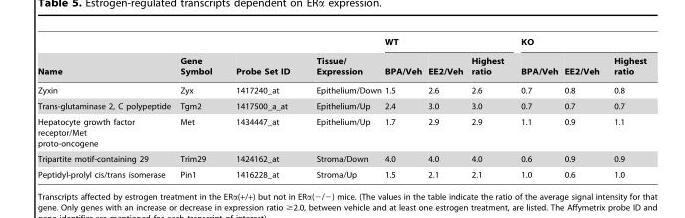table: (36, 37, 645, 178)
table column: (36, 37, 174, 178), (302, 37, 382, 178), (223, 37, 302, 178), (174, 37, 223, 178), (511, 37, 560, 178), (560, 37, 606, 178), (466, 37, 511, 178), (382, 37, 424, 178), (424, 37, 466, 178), (606, 37, 645, 178)
table column header: (36, 37, 645, 80)
table row: (36, 113, 645, 150), (36, 51, 645, 80), (36, 80, 645, 98), (36, 150, 645, 166), (36, 98, 645, 113), (36, 37, 645, 51), (36, 166, 645, 178)
table spanning cell: (36, 37, 174, 80), (302, 37, 382, 80), (223, 37, 302, 80), (174, 37, 223, 80), (511, 37, 645, 51), (382, 37, 511, 51)
